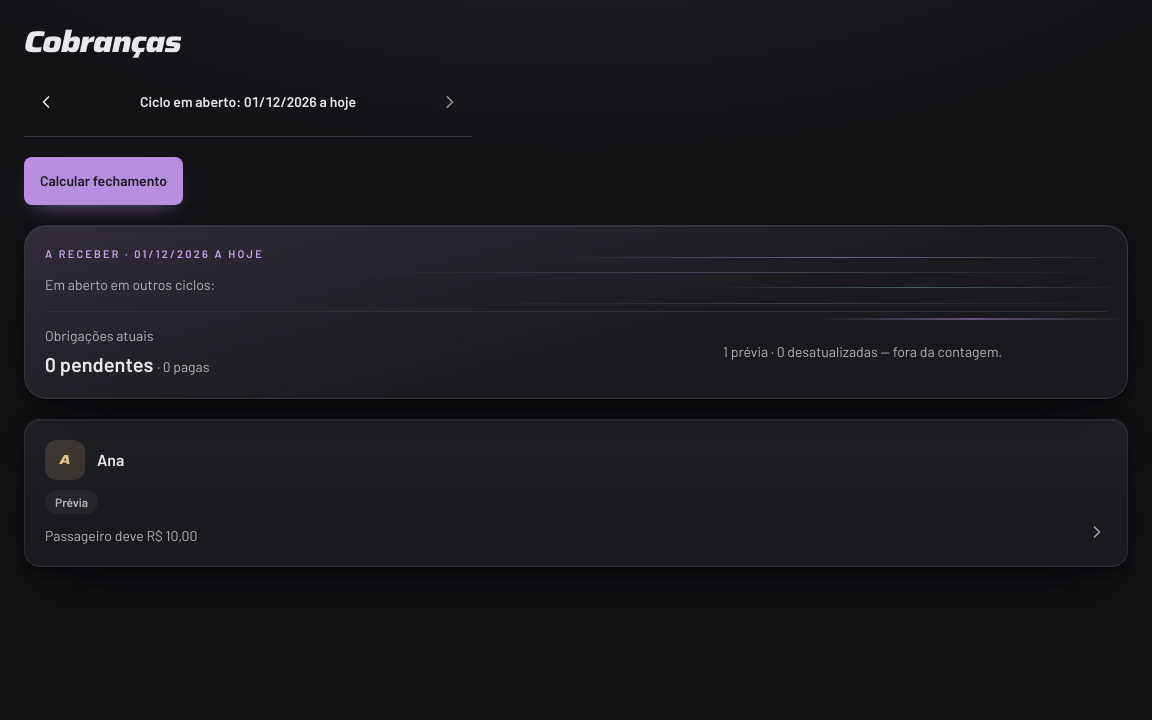
Scenario: a whole-month last charge no longer blocks the closing (the deploy order protects) › movement after the conversion month exists: the button is on and there is no explanation of a block
Expected: the text "Ciclo em aberto: 01/12/2026 a hoje" is shown, x1=140 y1=93 x2=356 y2=110
Click the button "Calcular fechamento".
click(104, 181)  # box x1=24 y1=157 x2=183 y2=205
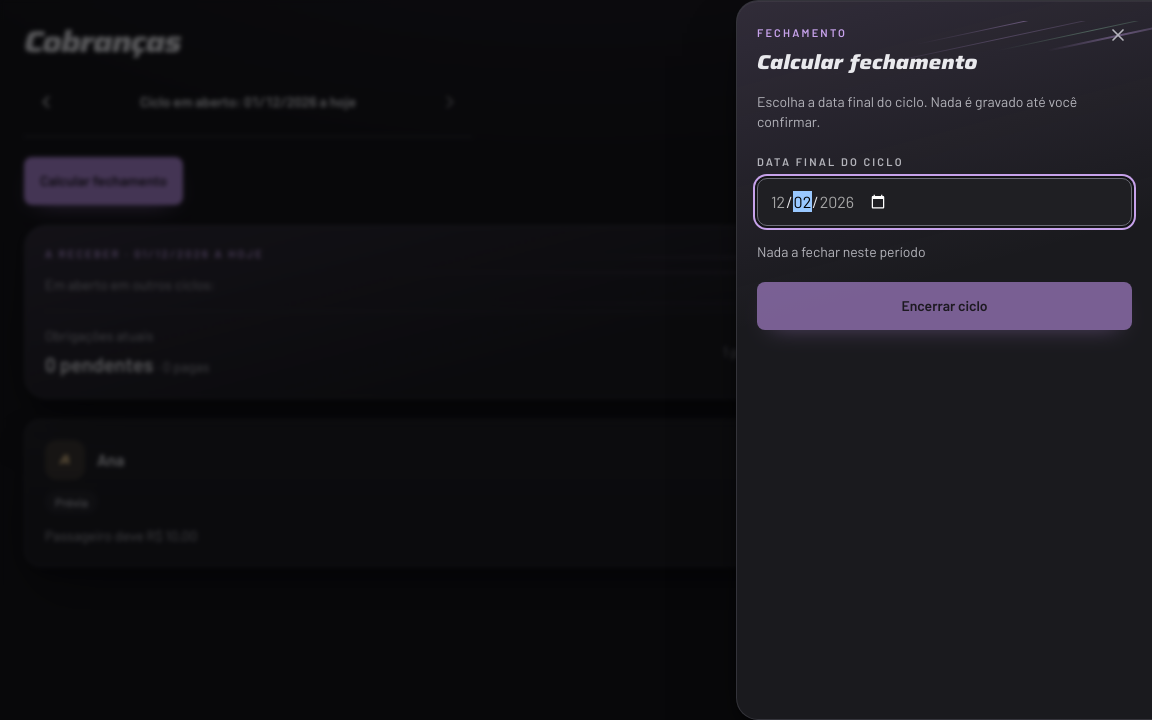
Now the dialog is shown, box x1=736 y1=0 x2=1151 y2=719
